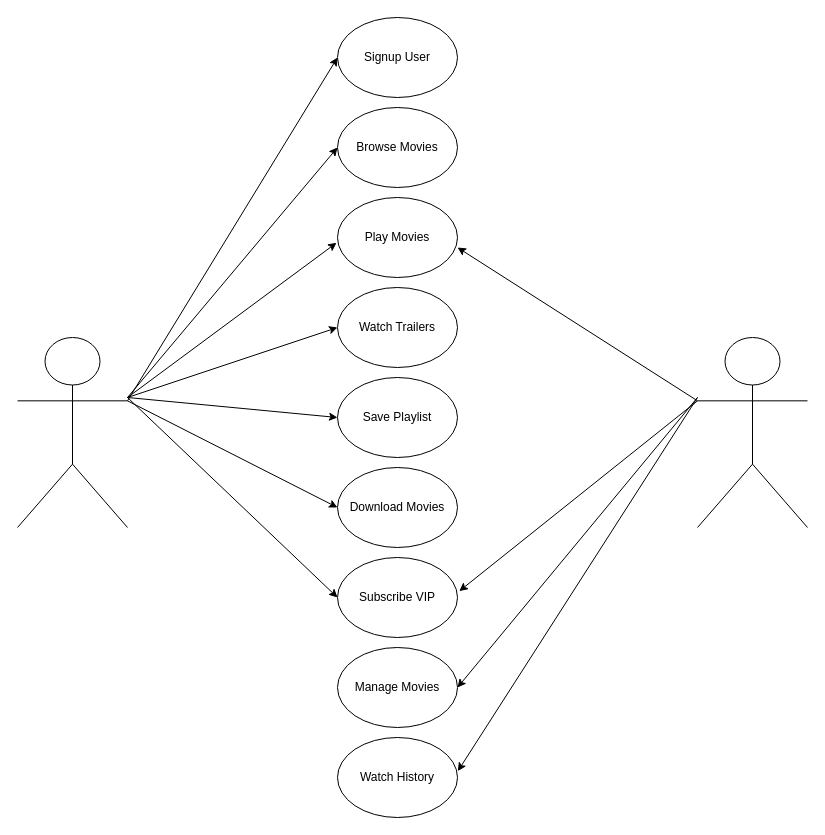
Image size: 825x835. Some labels were removed from this diagram. Each missing label, with the centre of its shape:
"Admin" belongs at point (752, 432).
"User" belongs at point (72, 432).
